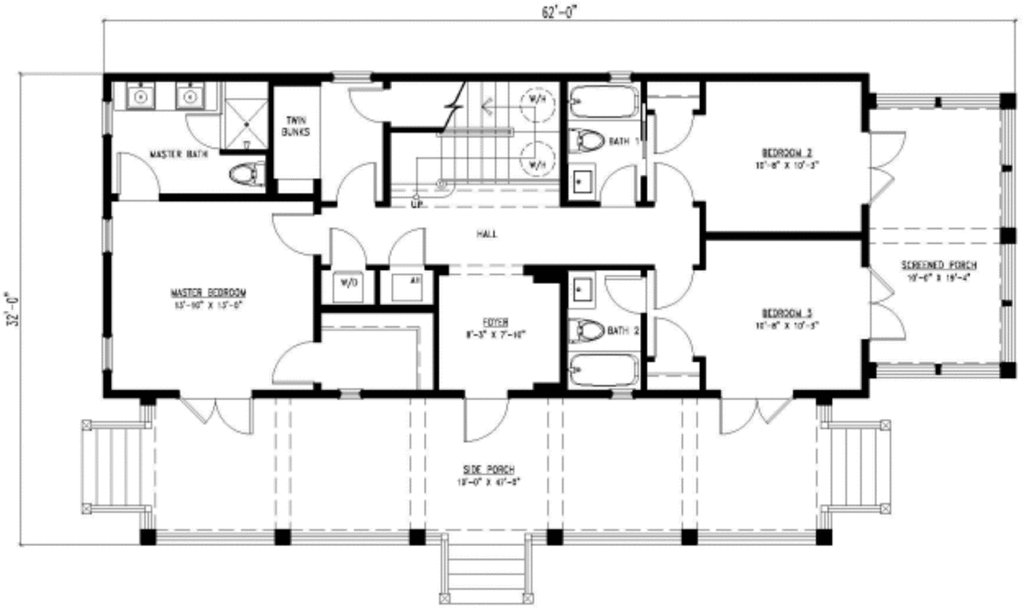door: (715, 393, 793, 435), (175, 394, 253, 435), (865, 127, 906, 203), (867, 265, 906, 343), (111, 150, 165, 202), (265, 207, 316, 260), (272, 337, 322, 386), (463, 396, 509, 443), (651, 267, 695, 312), (652, 109, 697, 153), (335, 161, 378, 204), (650, 315, 694, 357), (652, 162, 693, 207), (384, 226, 429, 267), (599, 165, 642, 207), (346, 84, 387, 126), (603, 273, 643, 316), (326, 226, 365, 270), (183, 114, 220, 152)
large_sink: (228, 156, 272, 188), (565, 125, 606, 156), (563, 316, 605, 344)
small_sink: (114, 81, 212, 112), (567, 161, 597, 201), (567, 273, 597, 311)
stairs: (437, 80, 561, 187), (439, 526, 535, 605), (814, 422, 891, 509), (78, 420, 150, 512)
tub: (564, 84, 644, 121), (568, 351, 640, 390)
windows: (99, 97, 117, 138), (324, 69, 376, 83), (98, 215, 115, 257), (99, 335, 115, 373), (337, 384, 363, 401)
